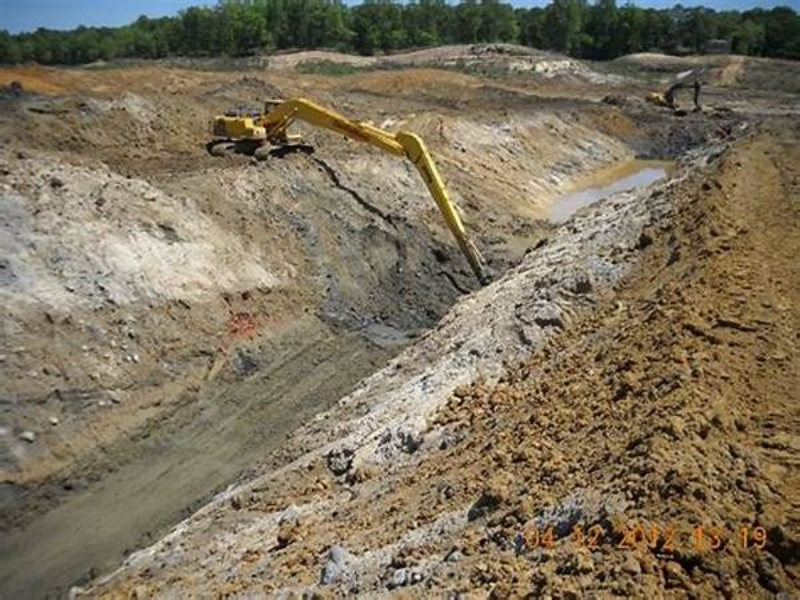excavator: (204, 93, 497, 286), (640, 78, 706, 116)
